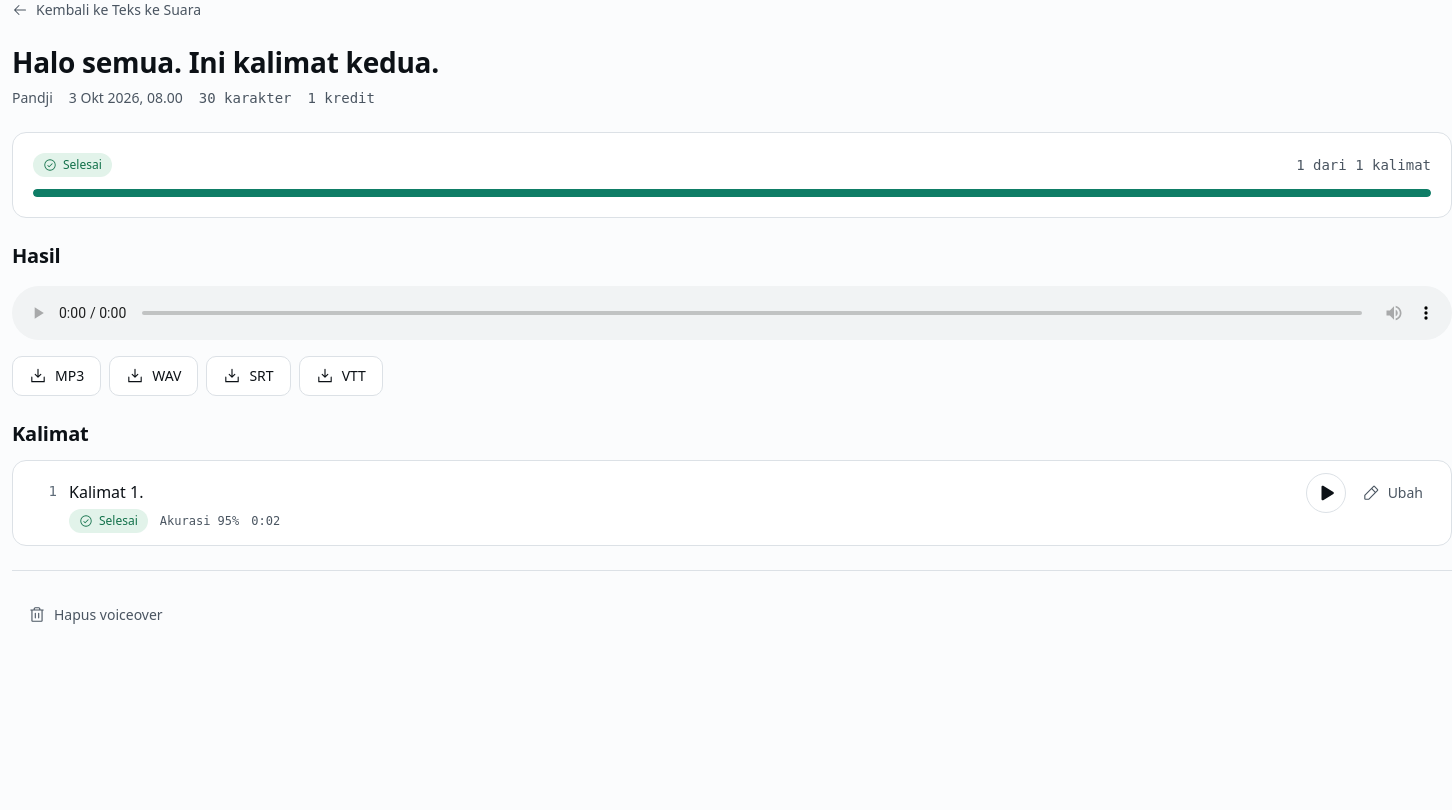
Test: JobPage › maps a rejected regenerate text to the one-sentence rule
The width and height of the screenshot is (1452, 810).
Click the button "Ubah": [1392, 493] box [1350,475,1435,511]
(page scrolled)
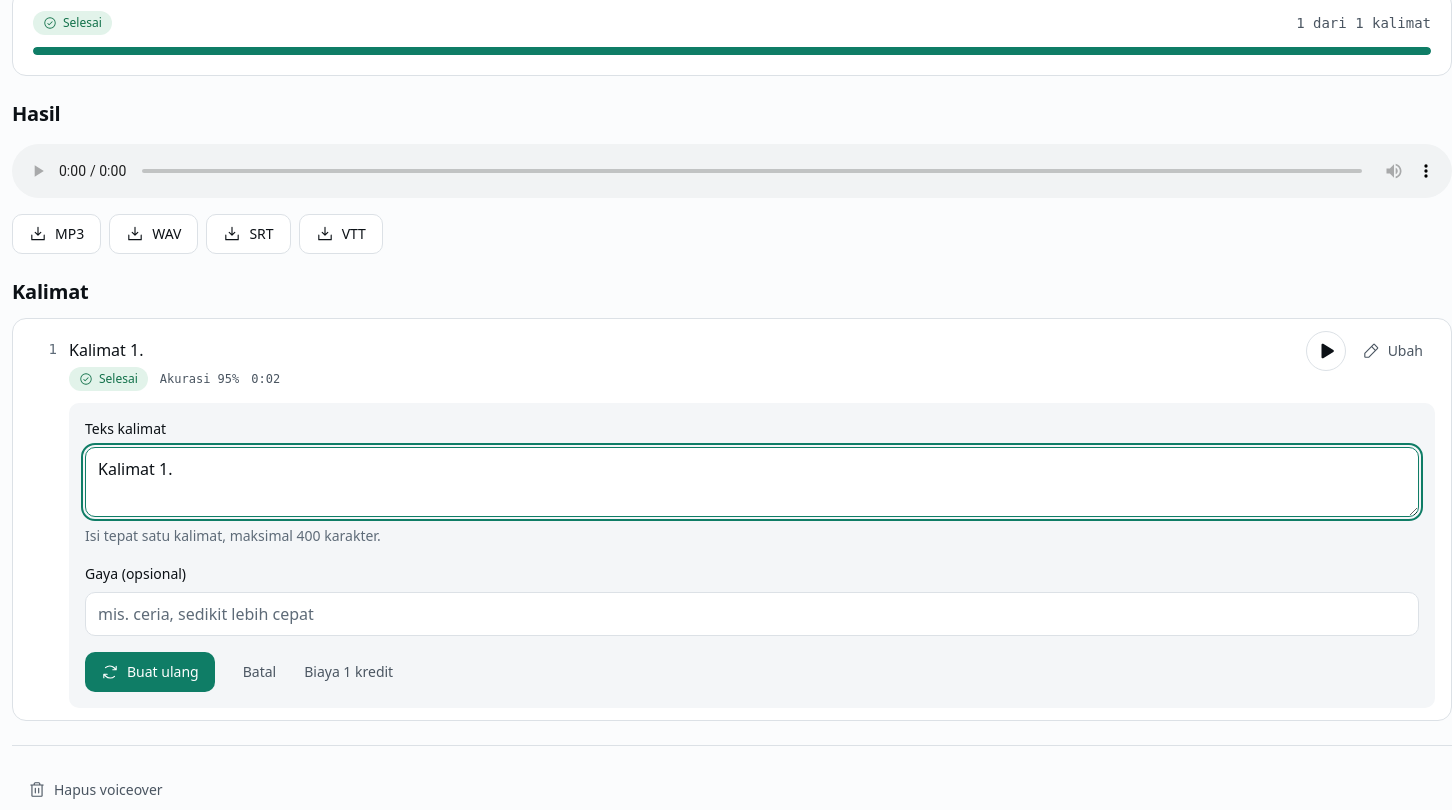
Click the button "Buat ulang": [150, 672] box [85,652,215,692]
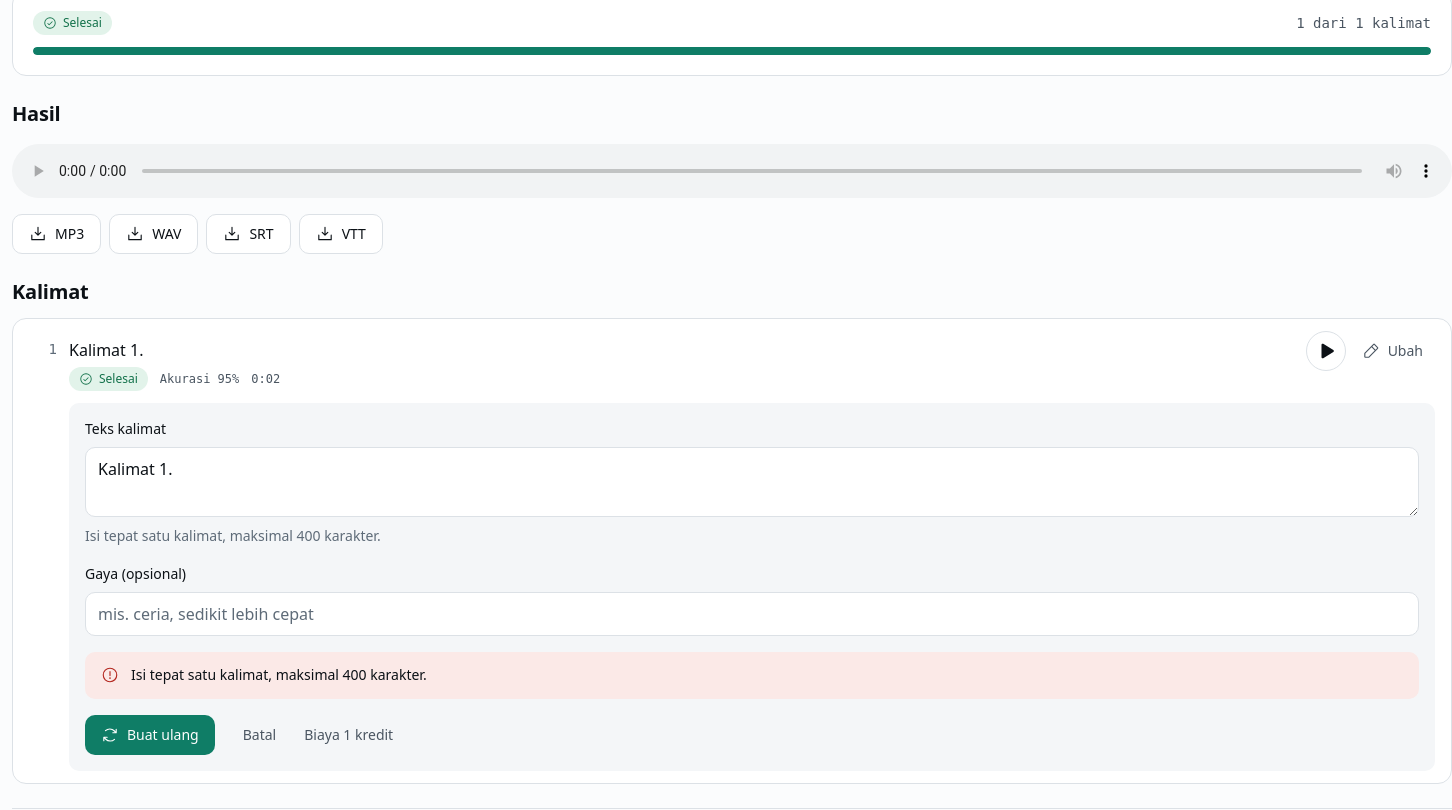
Expected: the message reads "Isi tepat satu kalimat, maksimal 400 karakter.", [131,665,427,684]
